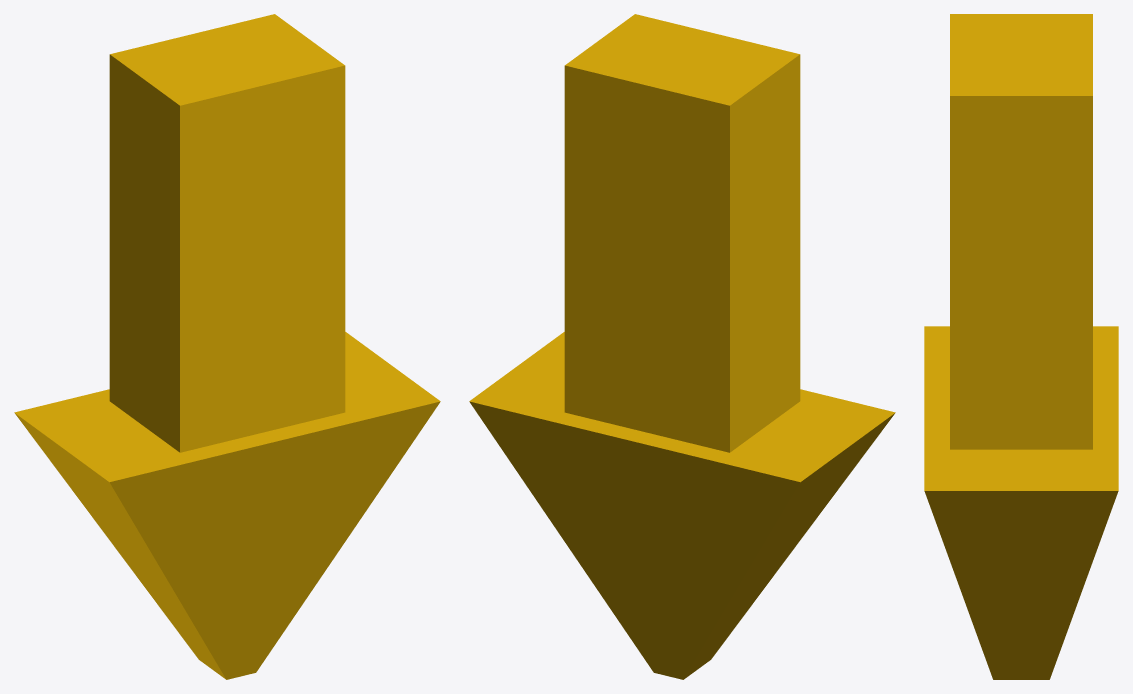
Rendered from Arrow.fbx.
The picture shows the model from 3 angles, left to right: view 1: azimuth 30°, elevation 25°; view 2: azimuth 150°, elevation 25°; view 3: azimuth 270°, elevation 25°; orthographic projection.
Visible parts, largest first — view 1: Arrow; view 2: Arrow; view 3: Arrow.
Boxes of the visible parts, left/top/right/bottom form: Arrow: left=14, top=14, right=440, bottom=679; Arrow: left=469, top=14, right=895, bottom=679; Arrow: left=924, top=14, right=1118, bottom=679.
Bounding box in the file's own units: 401 × 702 × 200.
